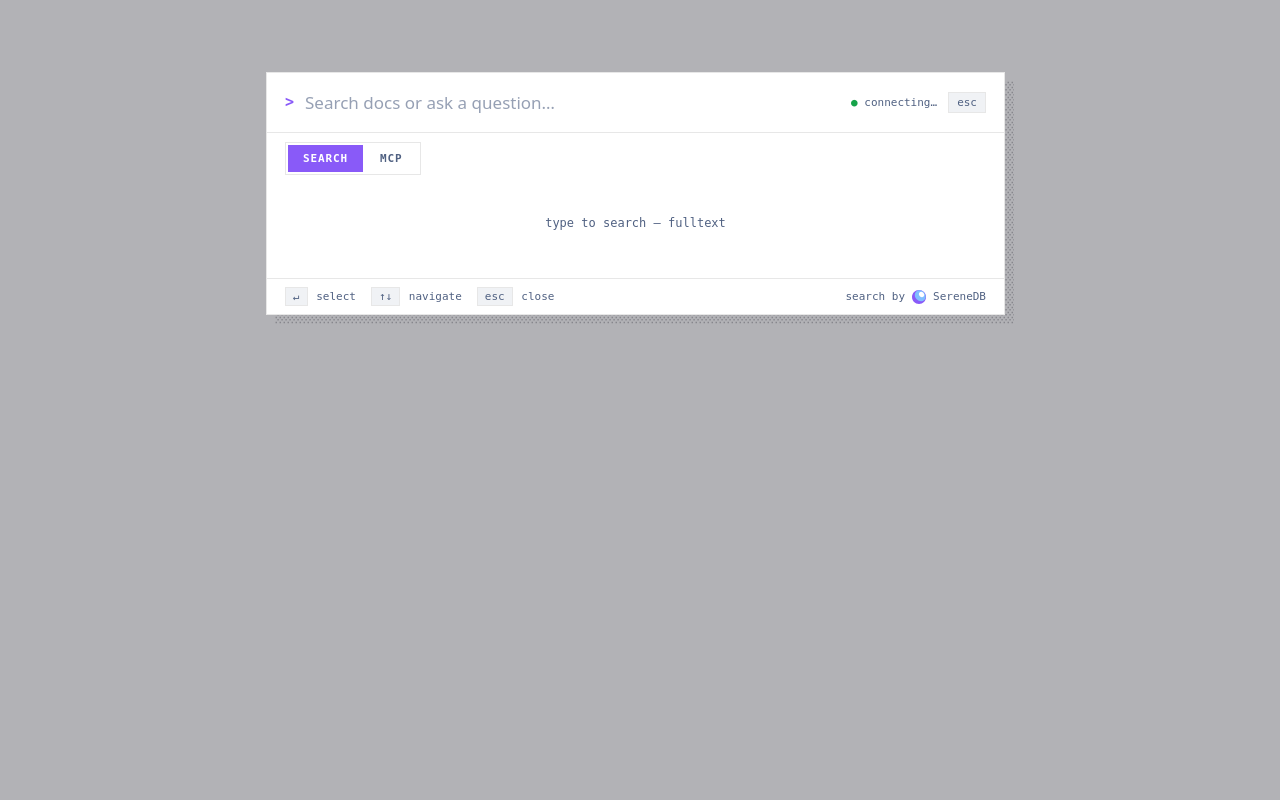
Test: sectioned search UI › renders visible group headings with the current Blog section first
Type "search" into the field with placeholder "Search docs or ask a question…" at coordinates (572, 102), box [305,82,840,123]
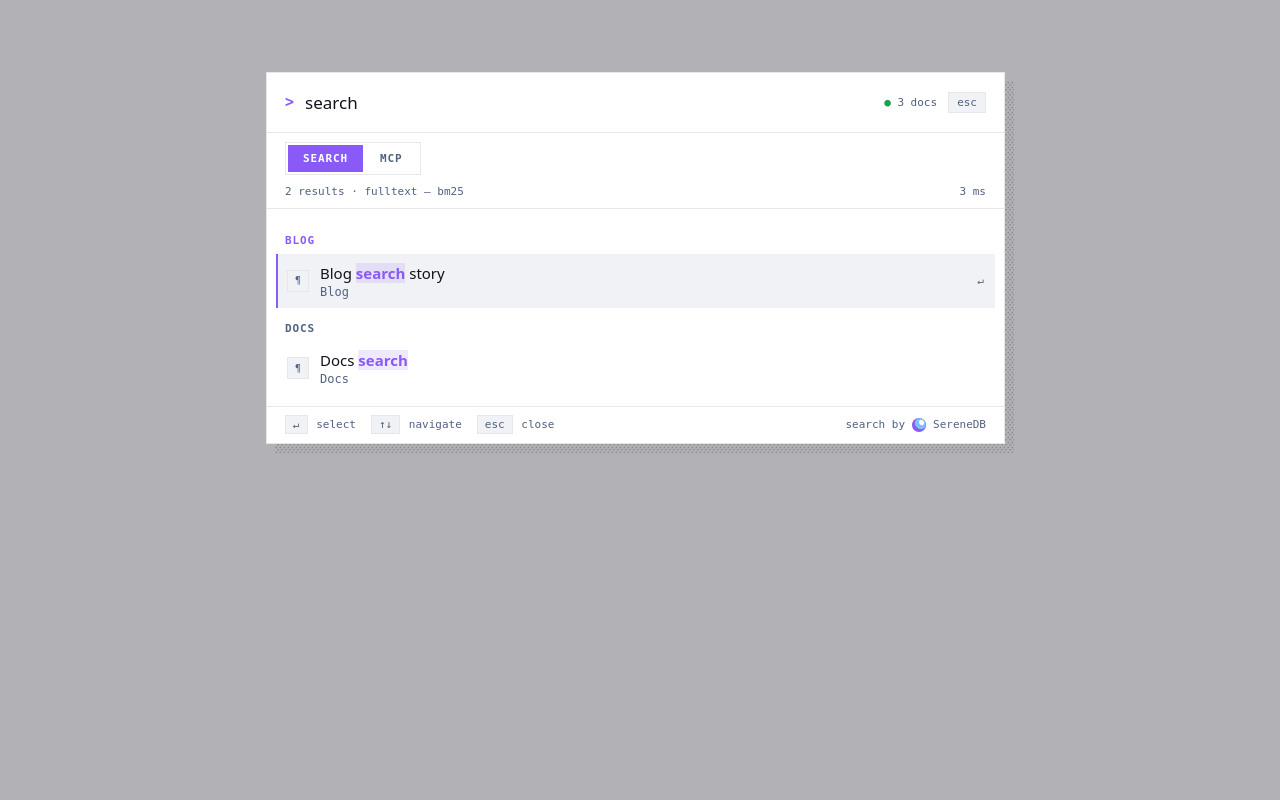
Expected: the number of headings is 2, [285,234,315,247]; [285,322,315,335]
Expected: the headings read "Blog", "Docs", in this order, [285,234,315,247]; [285,322,315,335]
Expected: the button "¶ Blog search story Blog ↵" is shown, [276,254,995,308]
